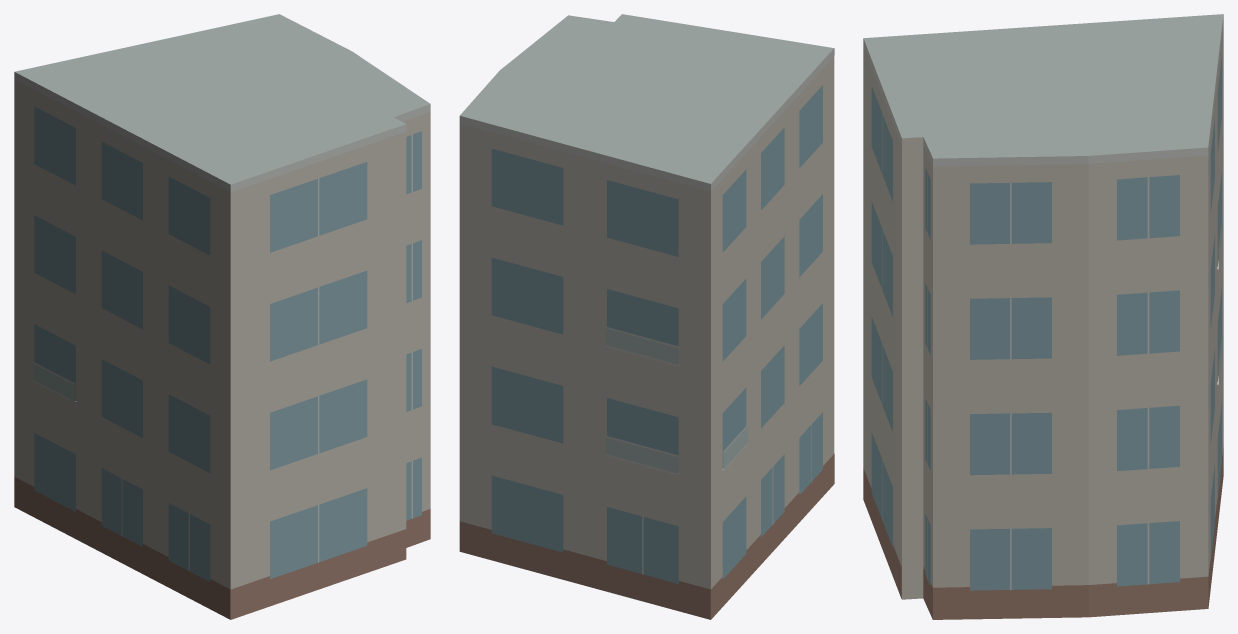
Rendered from survey-upis-33003162.glb.
3 renders of one model, left to right at view 1: azimuth 30°, elevation 25°; view 2: azimuth 150°, elevation 25°; view 3: azimuth 270°, elevation 25°, orthographic. The views are drawn at different scales.
Parts seen in each view (by area): view 1: survey-upis-33003162.tmp; view 2: survey-upis-33003162.tmp; view 3: survey-upis-33003162.tmp.
Boxes of the visible parts, x1,y1,x2,y2 form: survey-upis-33003162.tmp: [14, 14, 430, 619]; survey-upis-33003162.tmp: [459, 14, 834, 619]; survey-upis-33003162.tmp: [863, 14, 1223, 619].
Size of the model in its own units: 9.38 by 13.95 by 9.88.
